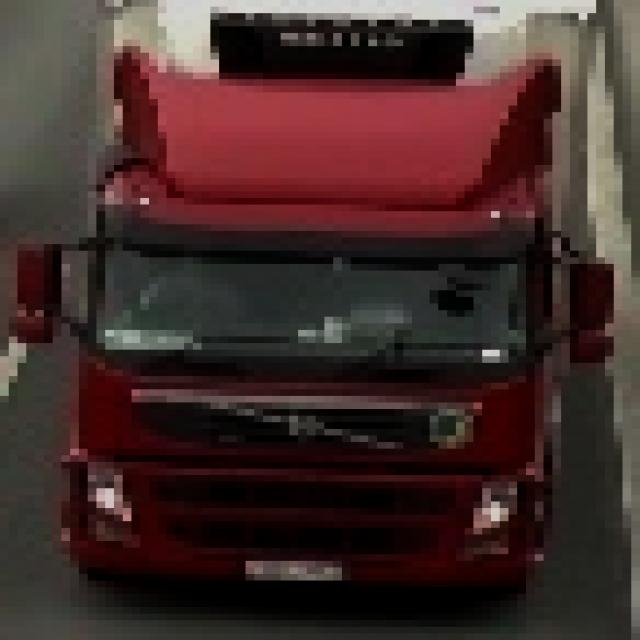truck: (10, 1, 615, 595)
